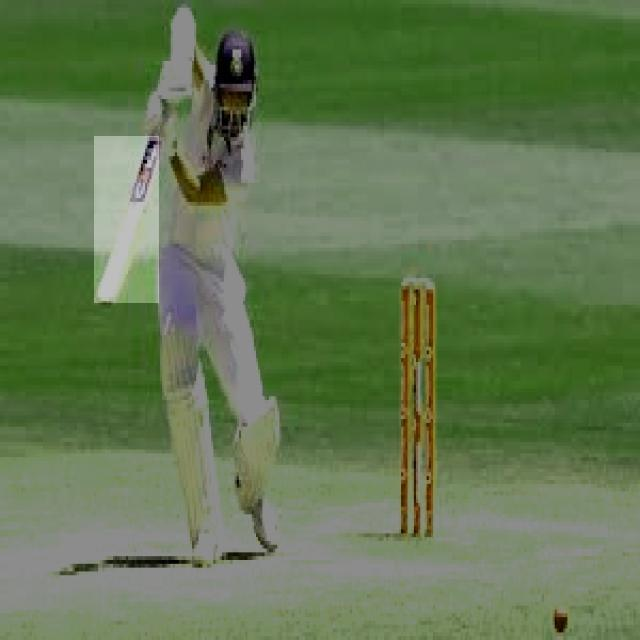bat: (95, 138, 159, 302)
toe: (93, 289, 127, 307)
